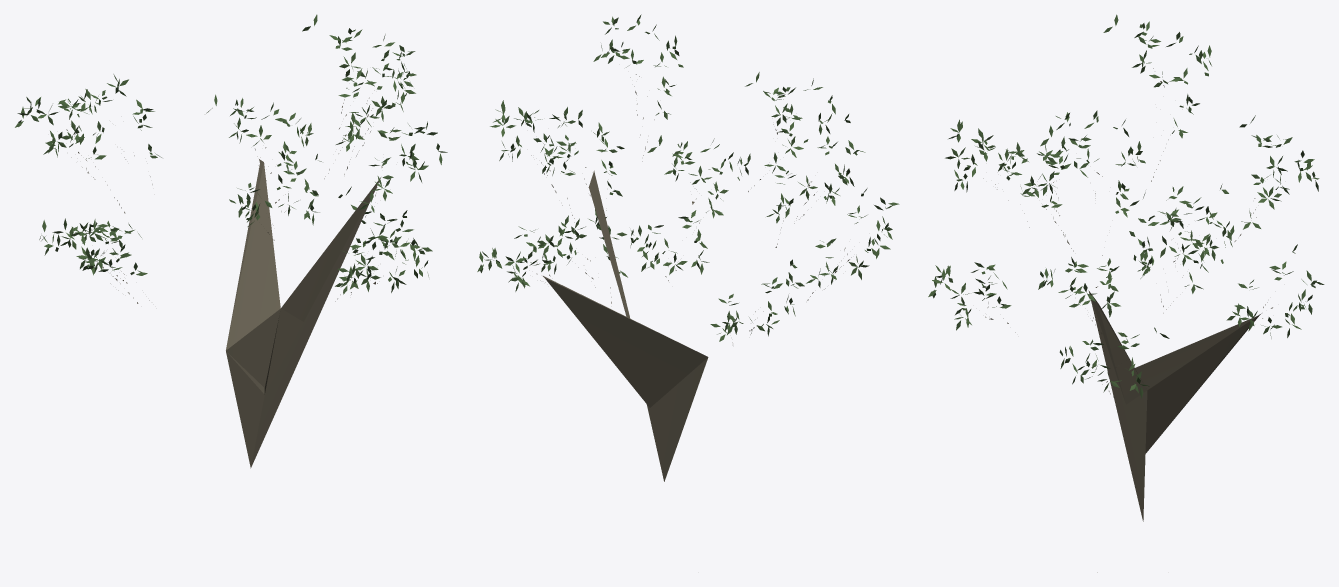
Rendered from CheneVert_1_Niveau2.fbx.
3 renders of one model, left to right at view 1: azimuth 30°, elevation 25°; view 2: azimuth 150°, elevation 25°; view 3: azimuth 270°, elevation 25°, orthographic. The views are drawn at different scales.
Parts seen in each view (by area): view 1: CheneVert_1_Niveau2; view 2: CheneVert_1_Niveau2; view 3: CheneVert_1_Niveau2.
Boxes of the visible parts, box(x1,y1,x2,y2) form: CheneVert_1_Niveau2: box(15, 14, 447, 468); CheneVert_1_Niveau2: box(477, 14, 899, 481); CheneVert_1_Niveau2: box(928, 14, 1324, 572).
Bounding box in the file's own units: 471 × 586 × 421.
